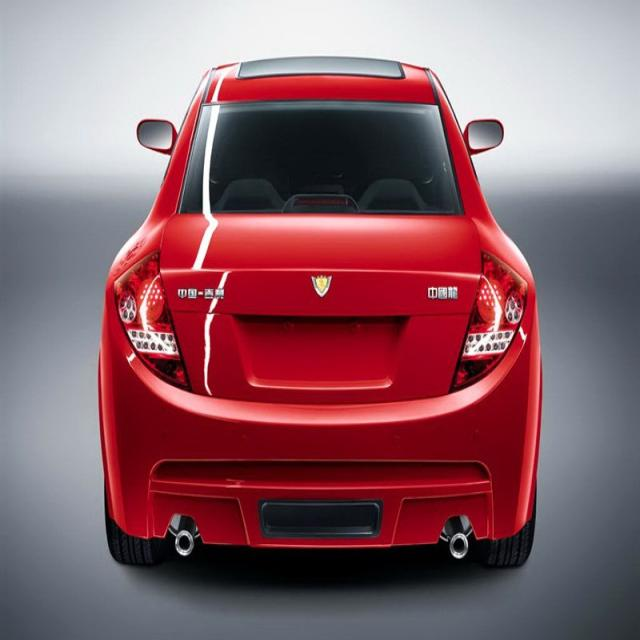back_glass: (175, 98, 467, 218)
back_left_side_light: (448, 248, 530, 396)
back_right_side_light: (111, 247, 193, 392)
front_left_side_mirror: (463, 117, 504, 157)
front_right_side_mirror: (136, 115, 175, 157)
rear_bumper: (98, 330, 542, 544)
